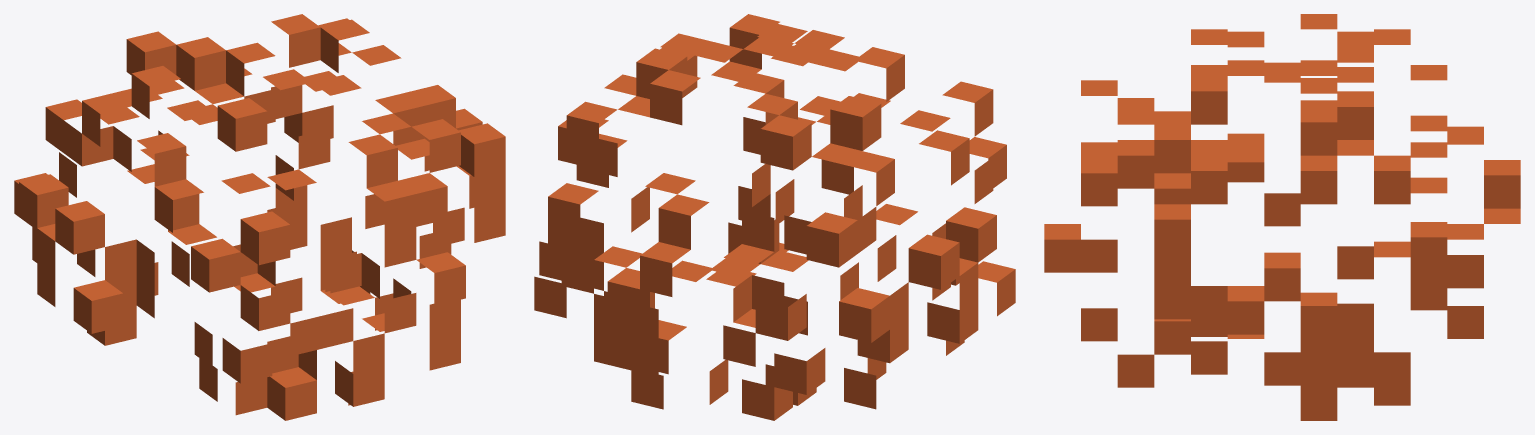
The model's file is tree-maple-1p2-maple-d9662f.gltf.
3 renders of one model, left to right at view 1: azimuth 30°, elevation 25°; view 2: azimuth 150°, elevation 25°; view 3: azimuth 270°, elevation 25°, orthographic. The views are drawn at different scales.
Visible parts, largest first — view 1: tree-maple-1p2-maple-d9662f; view 2: tree-maple-1p2-maple-d9662f; view 3: tree-maple-1p2-maple-d9662f.
Boxes of the visible parts, bbox=[...] form: tree-maple-1p2-maple-d9662f: bbox=[14, 14, 505, 420]; tree-maple-1p2-maple-d9662f: bbox=[534, 14, 1015, 420]; tree-maple-1p2-maple-d9662f: bbox=[1044, 14, 1520, 420].
Size of the model in its own units: 13 by 9 by 13.
